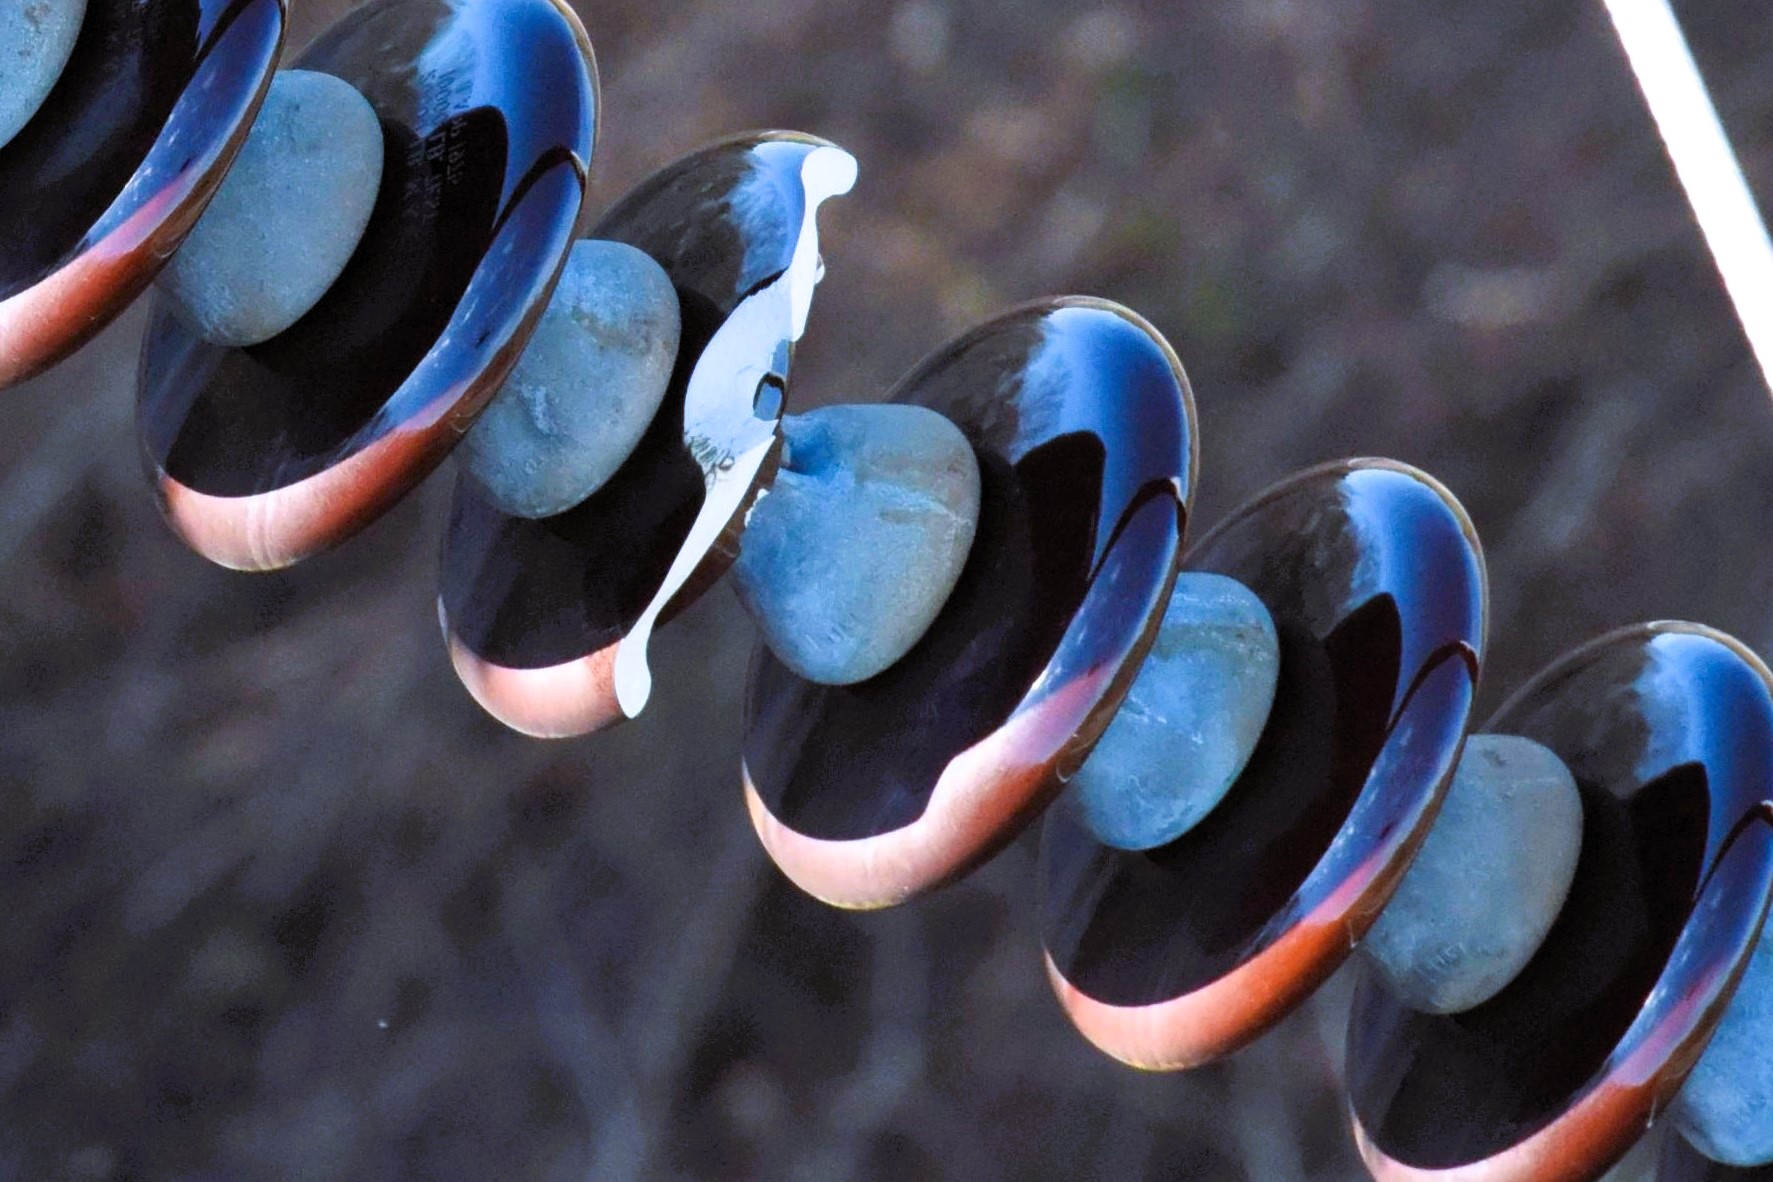insulator breakage: (427, 121, 877, 756)
